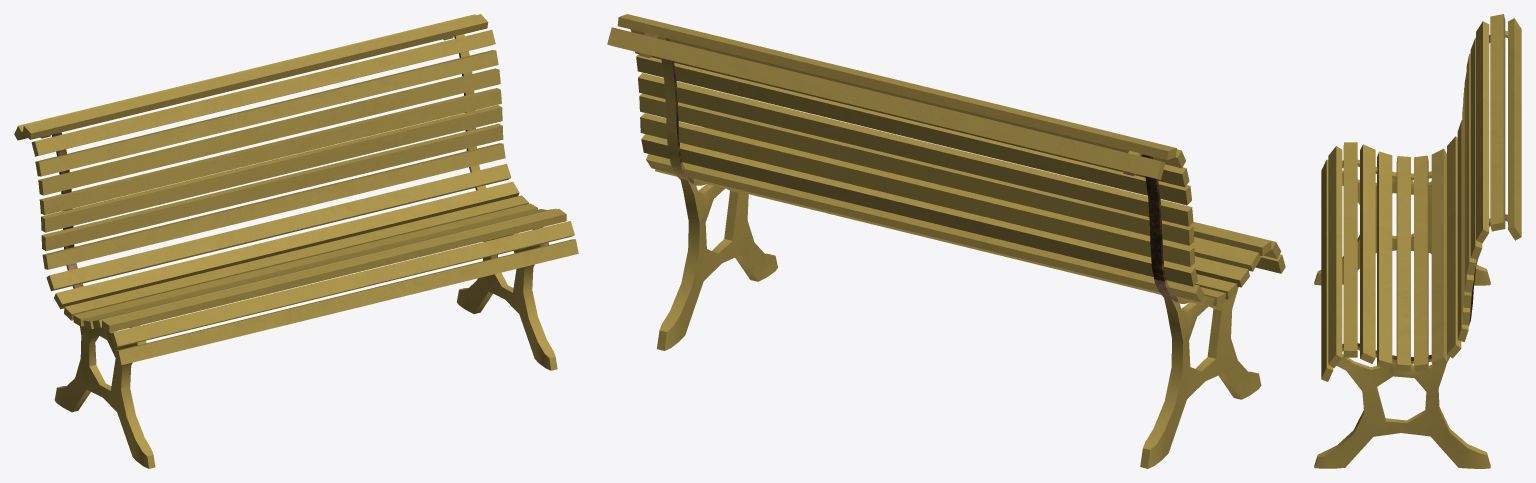
Rendered from Bench.fbx.
The picture shows the model from 3 angles, left to right: view 1: azimuth 30°, elevation 25°; view 2: azimuth 150°, elevation 25°; view 3: azimuth 270°, elevation 25°; orthographic projection. The views are drawn at different scales.
Parts seen in each view (by area): view 1: Bench; view 2: Bench; view 3: Bench.
Boxes of the visible parts, bbox=[...] form: Bench: bbox=[14, 14, 578, 468]; Bench: bbox=[607, 14, 1285, 468]; Bench: bbox=[1314, 14, 1521, 468].
Bounding box in the file's own units: 160 × 91.79 × 66.98.
